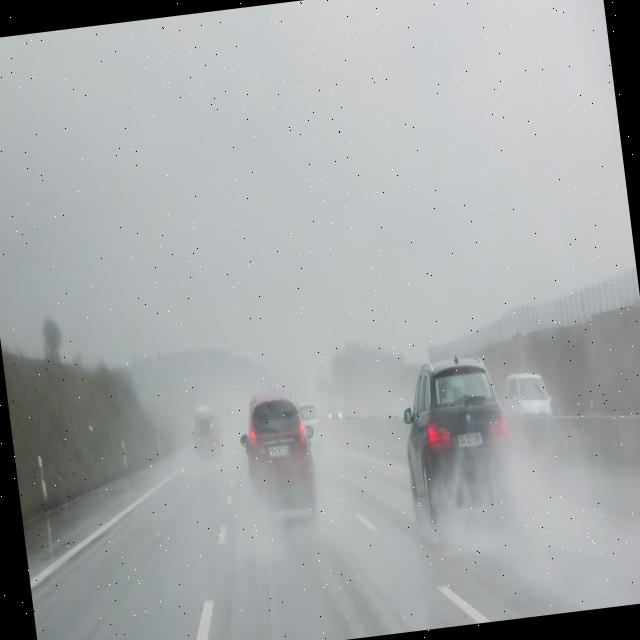car: (392, 350, 526, 534), (234, 388, 324, 524), (504, 368, 554, 420), (189, 416, 223, 468), (297, 402, 323, 441), (325, 400, 344, 420)
